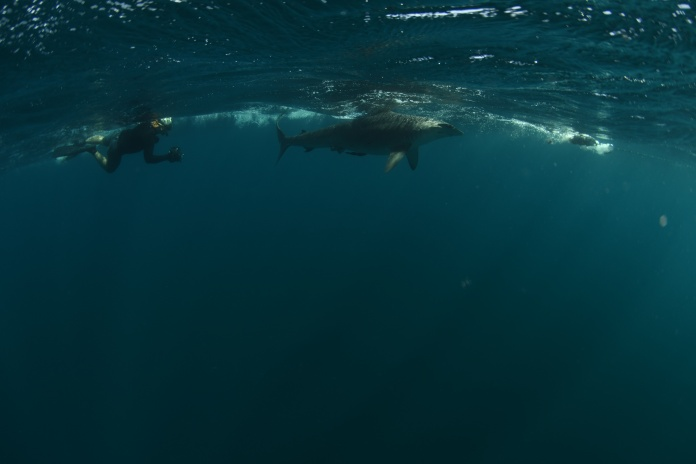Hammer: (259, 94, 470, 191)
